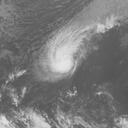cyclone: (37, 36, 79, 82)
